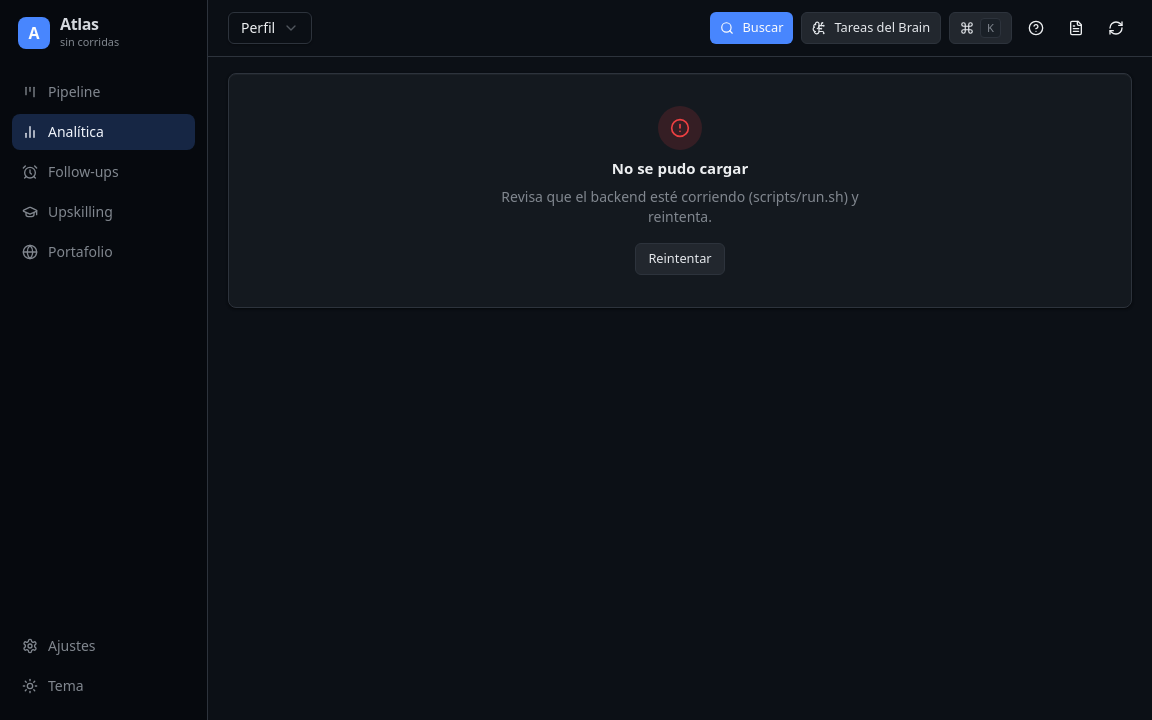
Test: AnalyticsPage › si /api/overview falla muestra ErrorState y Reintentar recupera al éxito
Expected: the text "No se pudo cargar" is shown, [612, 158, 748, 179]
Click the button "Reintentar": (680,259) [635, 243, 725, 275]
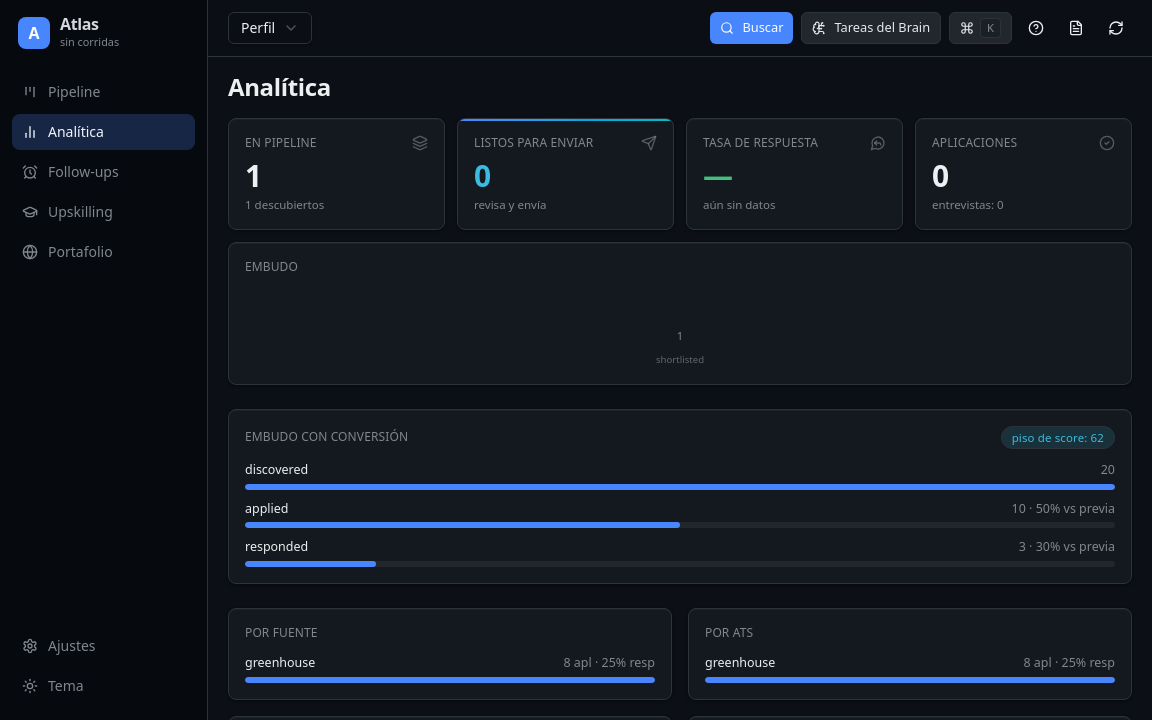
Expected: the heading "Analítica" is shown, [228, 70, 331, 103]
Expected: the text "No se pudo cargar" is gone
